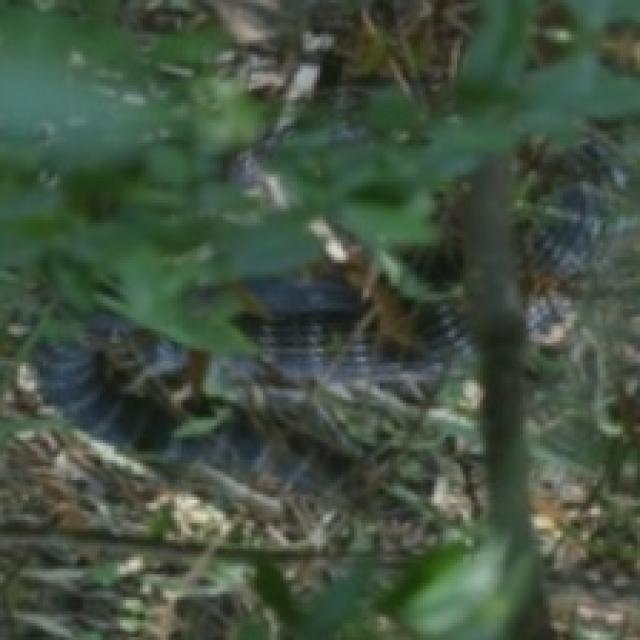king cobra: (37, 180, 480, 551), (514, 117, 637, 494)
